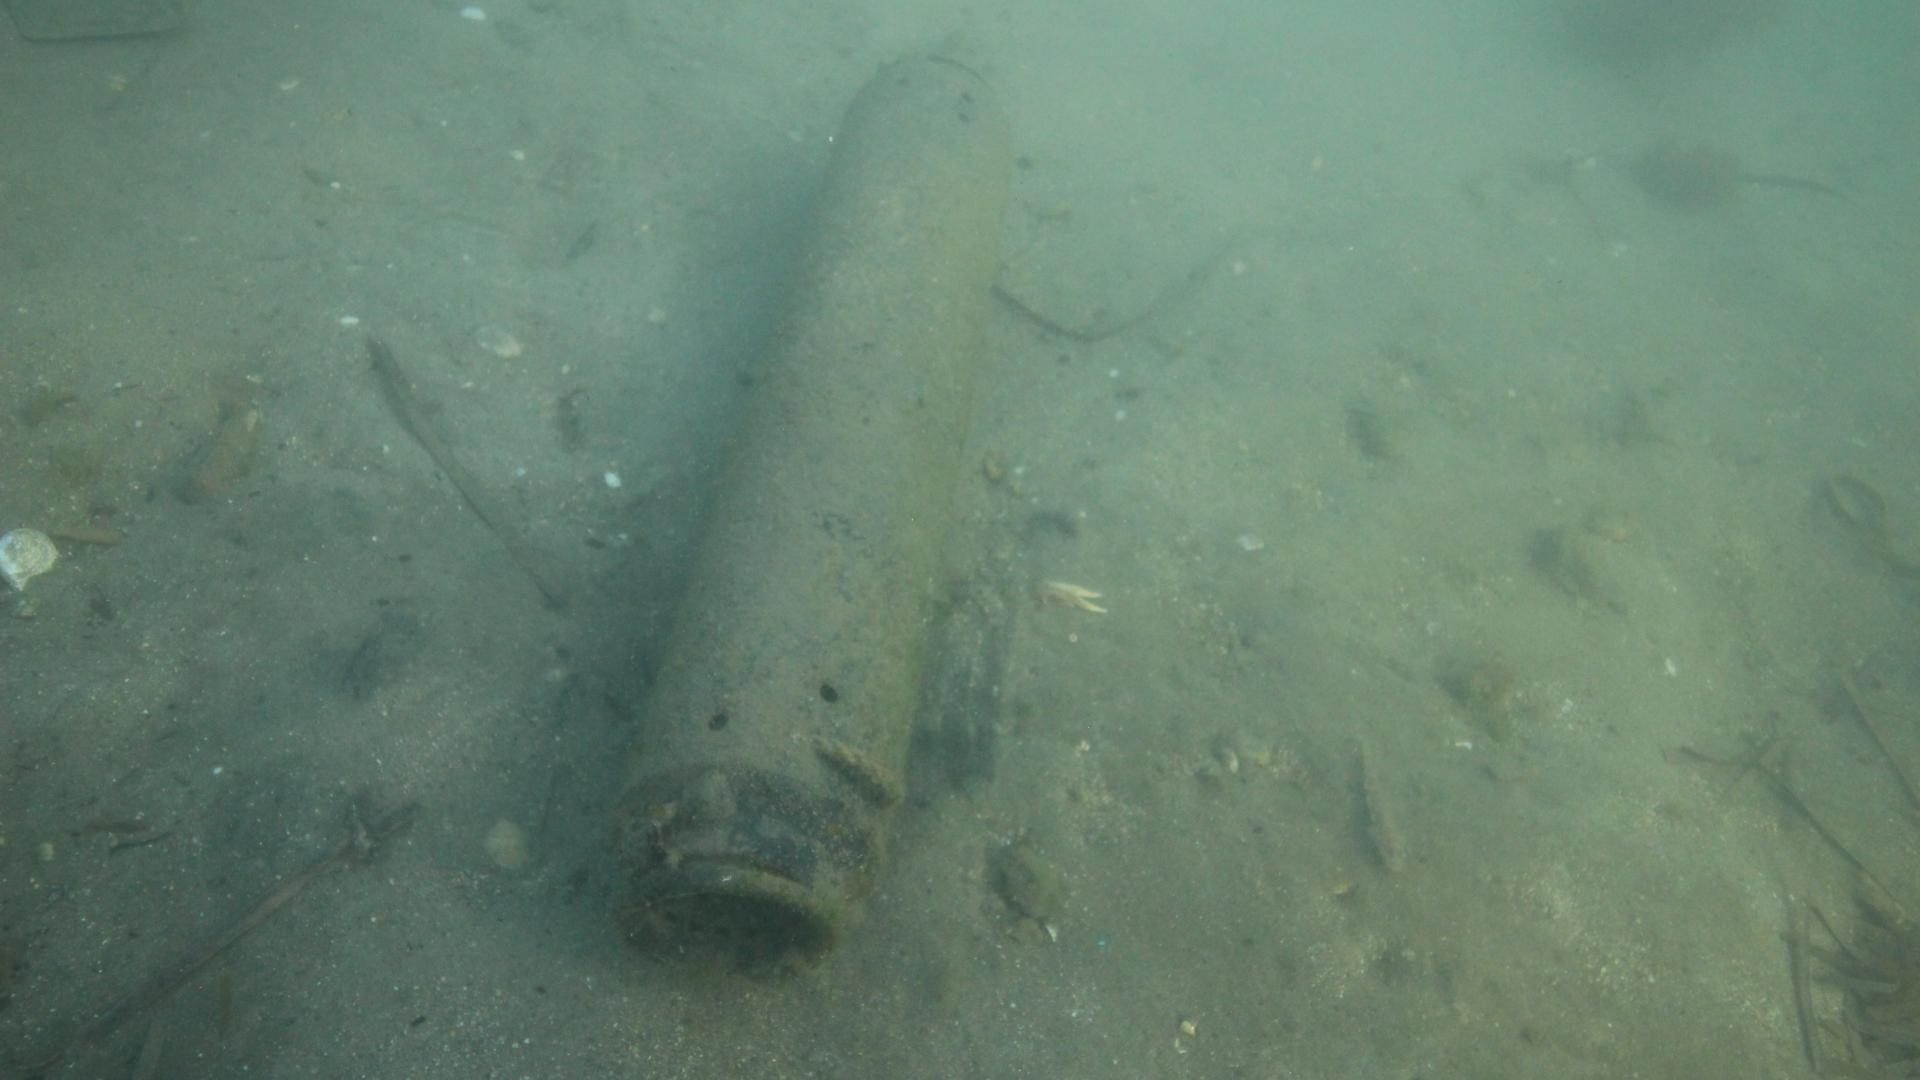eel fish trap: (607, 50, 1029, 976)
